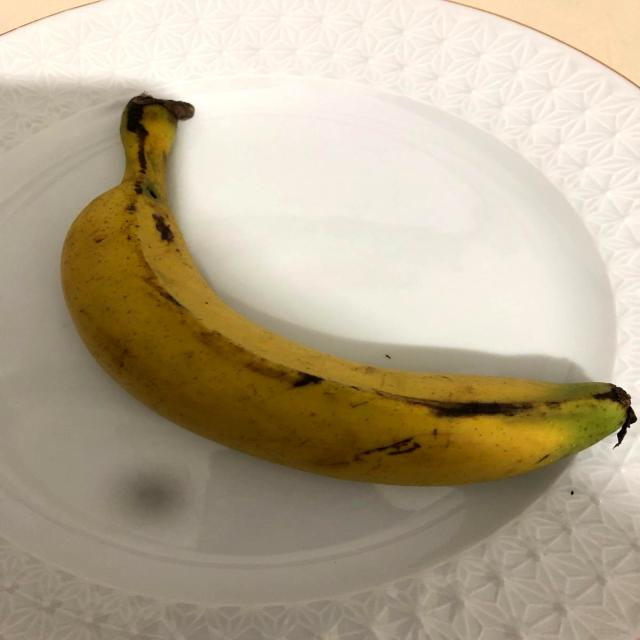banana: (53, 66, 640, 529)
